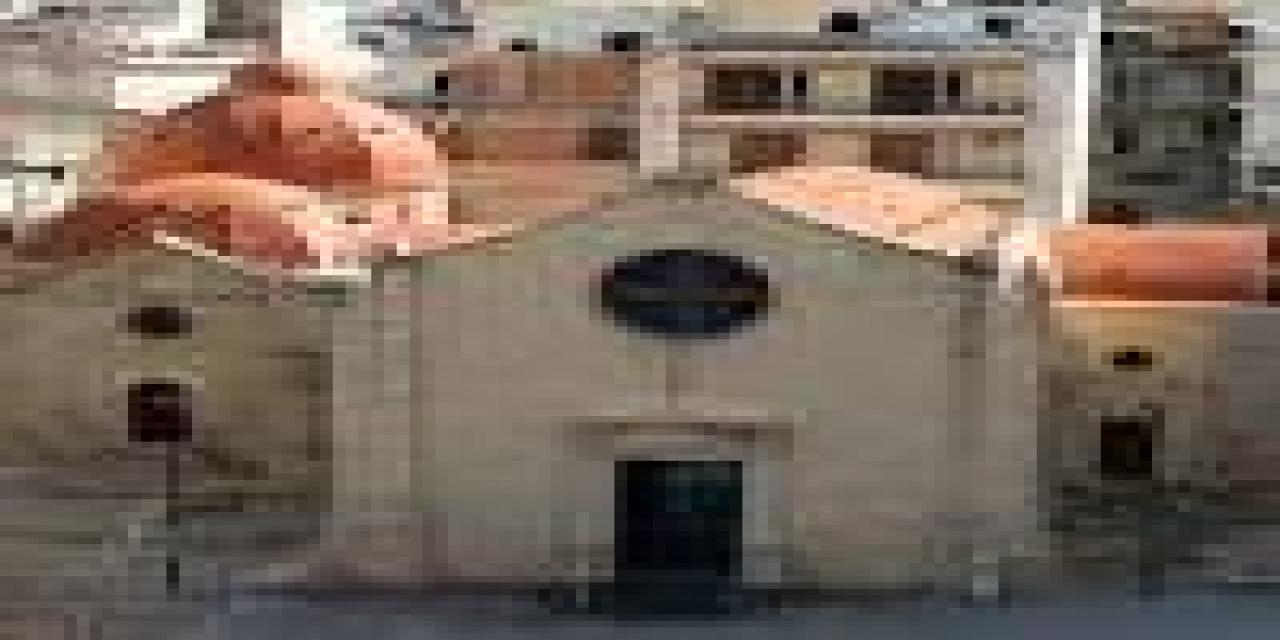Agia Aikaterini: (1, 66, 1280, 614)
